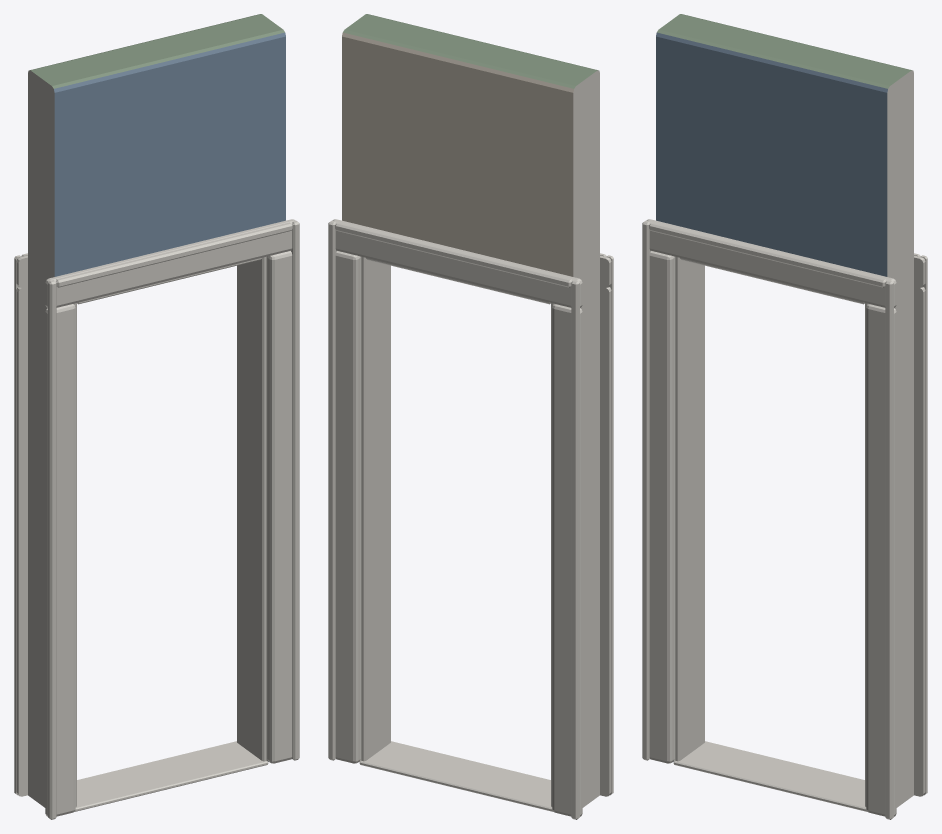
File: SM_Kit_Wall_Door.glb
The picture shows the model from 3 angles, left to right: view 1: azimuth 30°, elevation 25°; view 2: azimuth 150°, elevation 25°; view 3: azimuth 330°, elevation 25°; orthographic projection.
Visible parts, largest first — view 1: SM_Kit_Wall_Door; view 2: SM_Kit_Wall_Door; view 3: SM_Kit_Wall_Door.
Boxes of the visible parts, x1=… form: SM_Kit_Wall_Door: x1=14, y1=14, x2=299, y2=819; SM_Kit_Wall_Door: x1=328, y1=14, x2=613, y2=819; SM_Kit_Wall_Door: x1=642, y1=14, x2=927, y2=819.
Size of the model in its own units: 1.08 by 3 by 0.28.
